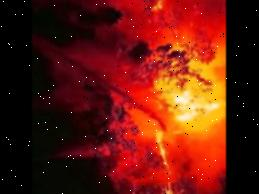fire: (117, 0, 221, 194)
